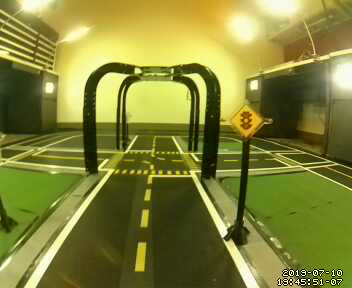Traffic light sign: (229, 104, 262, 138)
